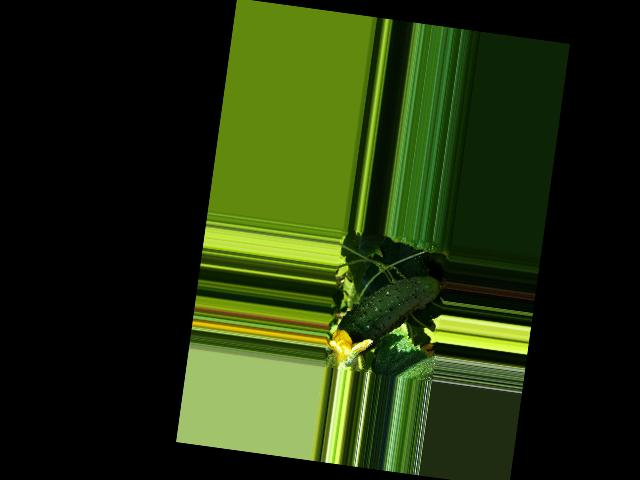cucumber: (334, 263, 447, 364)
